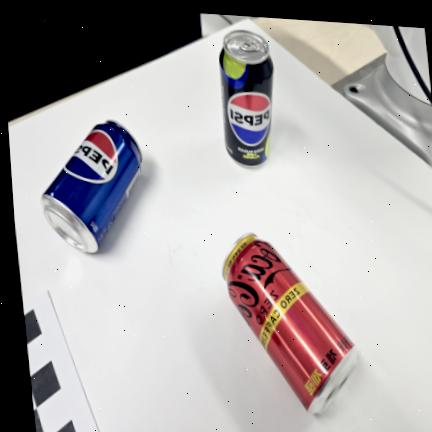can_coke_decaf: (221, 232, 358, 414)
can_pepsi: (41, 119, 143, 255)
can_pepsi_zero: (217, 28, 275, 168)
